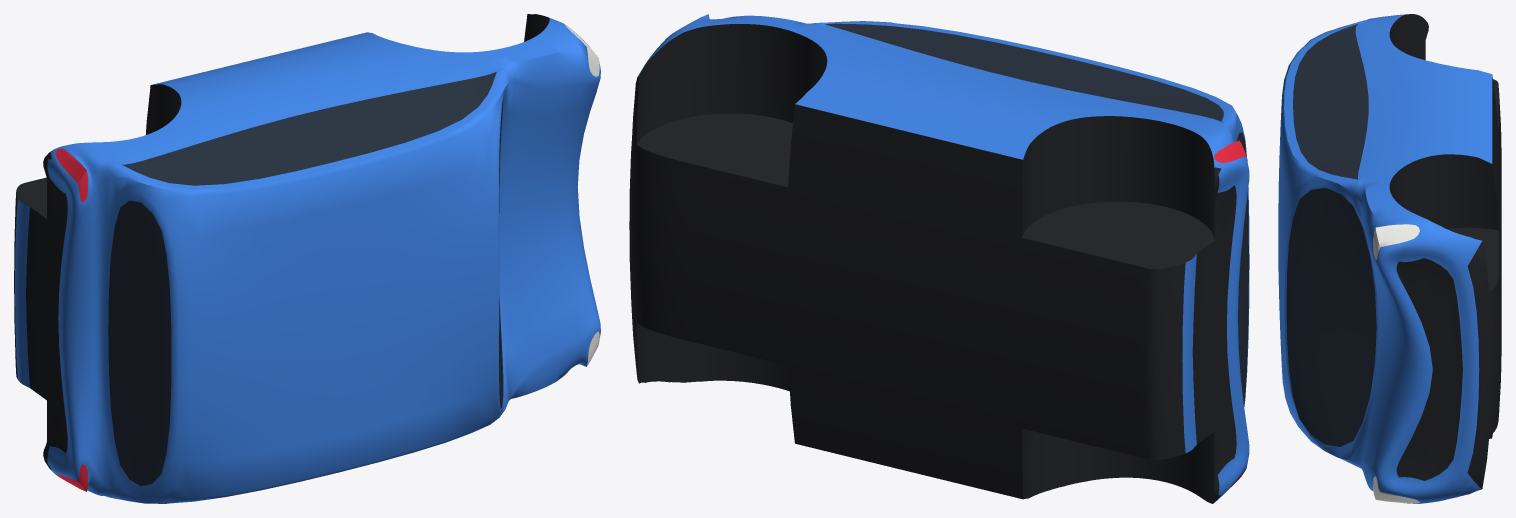
File: furgon.glb
3 views of the same model, side by side, from view 1: azimuth 30°, elevation 25°; view 2: azimuth 150°, elevation 25°; view 3: azimuth 270°, elevation 25° (orthographic). The views are drawn at different scales.
Parts seen in each view (by area): view 1: furgon; view 2: furgon; view 3: furgon.
Part boxes in pixels (box(x1,y1,x2,y2)): furgon: box(14, 14, 600, 503); furgon: box(629, 14, 1249, 503); furgon: box(1278, 14, 1501, 503).
Size of the model in its own units: 123 by 76.46 by 52.58.
